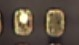MISSING: (9, 5, 38, 41), (41, 5, 70, 41)
